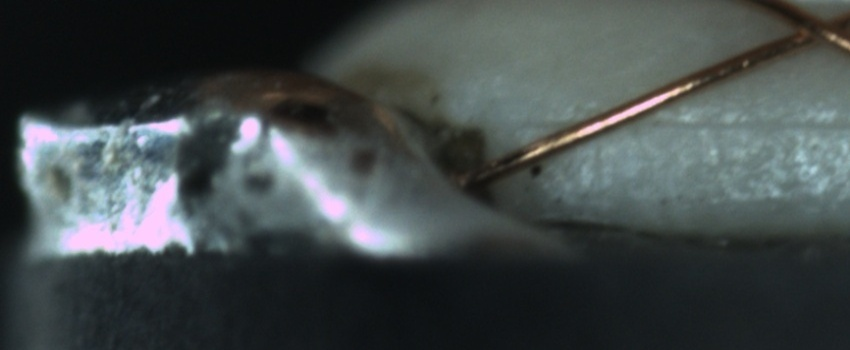CL: (765, 2, 848, 55)
DL: (521, 93, 848, 151)
